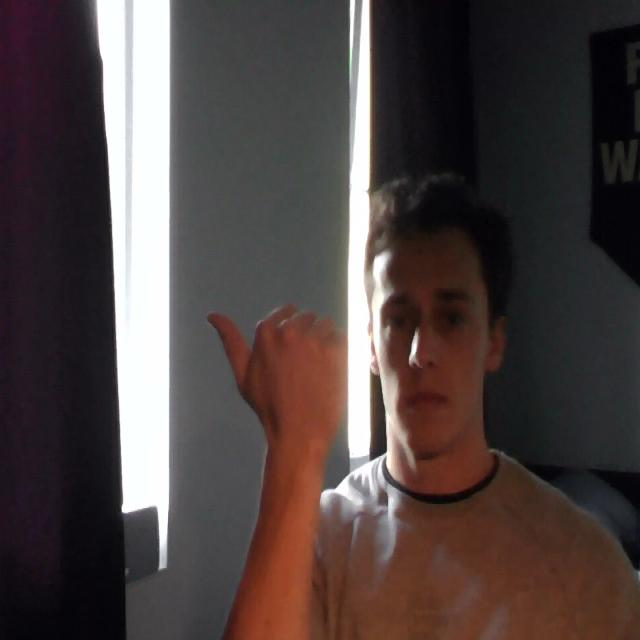left: (196, 281, 360, 463)
